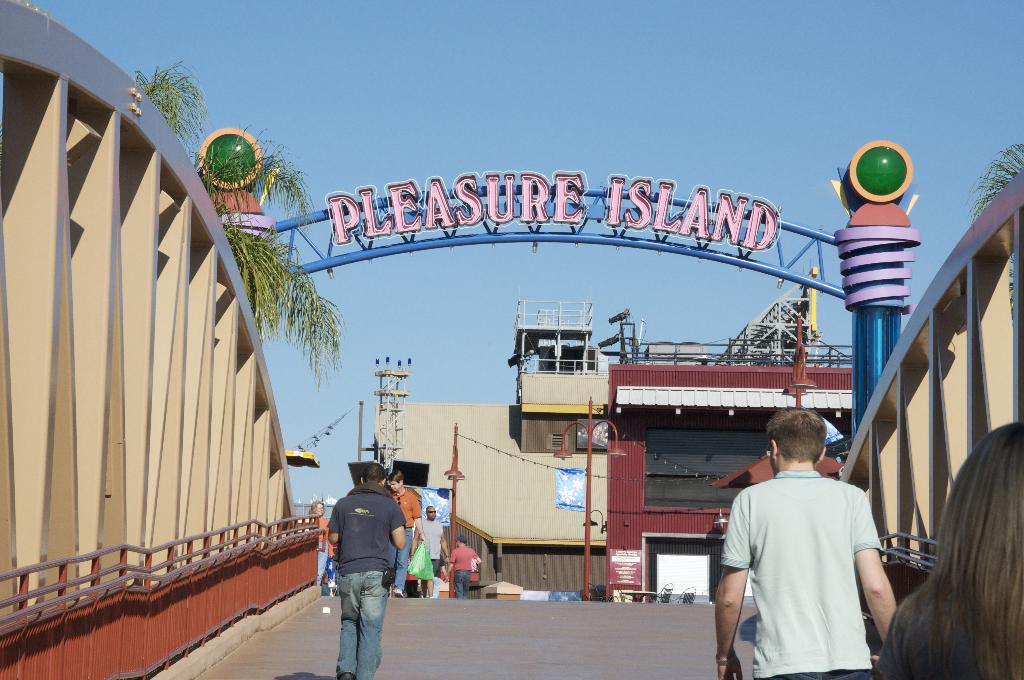Footwear: (337, 670, 356, 679)
